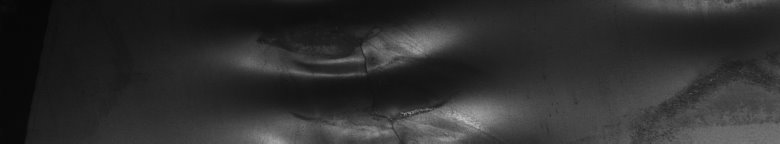ke: (238, 24, 502, 136)
